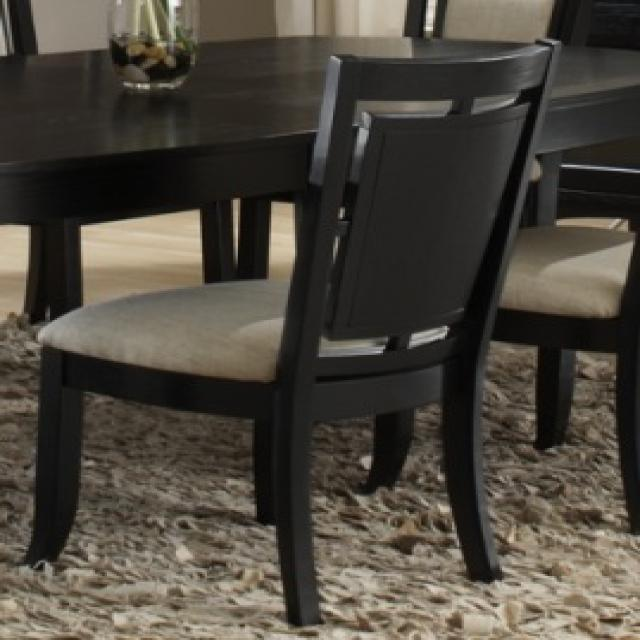chair: (21, 35, 562, 624)
